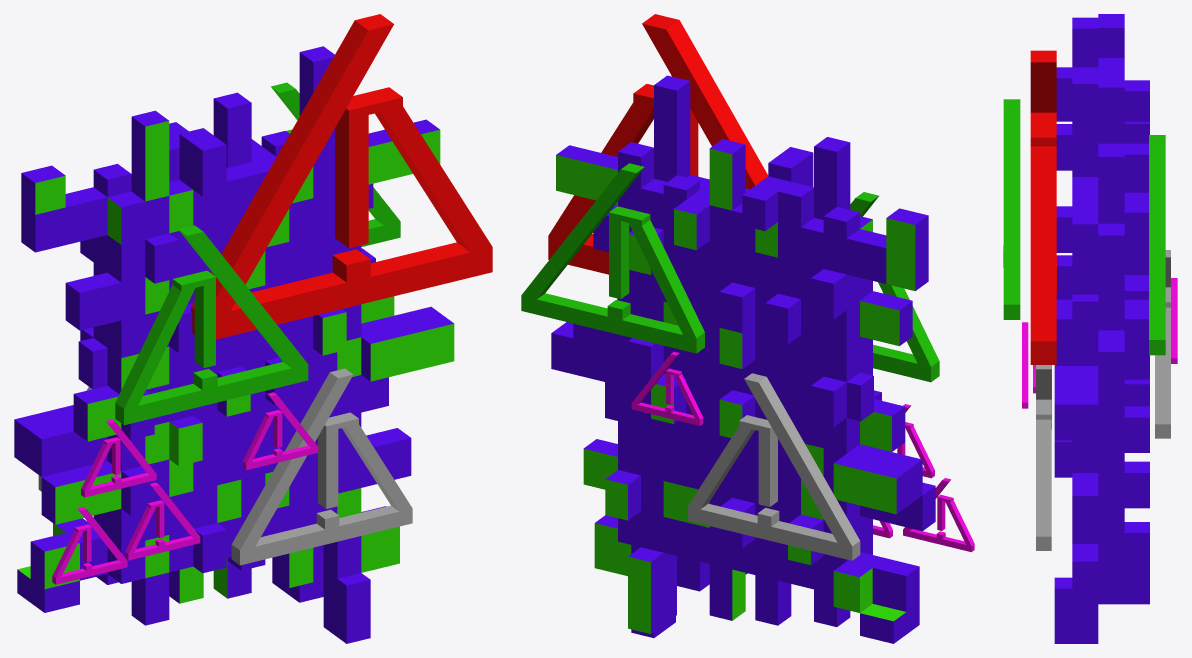
File: 浮き広告B.fbx
3 renders of one model, left to right at view 1: azimuth 30°, elevation 25°; view 2: azimuth 150°, elevation 25°; view 3: azimuth 270°, elevation 25°, orthographic. The views are drawn at different scales.
Parts seen in each view (by area): view 1: pCube1, pCube4, pasted__pCube4 (×3), pasted__pasted__pCube4 (×2), pasted__pasted__pasted__pCube4, pasted__pasted__pasted__pasted__pCube4; view 2: pCube1, pasted__pasted__pCube4 (×3), pCube4, pasted__pasted__pasted__pasted__pCube4 (×2), pasted__pCube4; view 3: pCube1, pCube4, pasted__pCube4 (×3), pasted__pasted__pCube4 (×2), pasted__pasted__pasted__pasted__pCube4.
Boxes of the visible parts, x1,y1,x2,y2 form: pCube1: (14, 46, 454, 643); pCube4: (191, 14, 492, 339); pasted__pCube4 (×3): (115, 225, 412, 565); pasted__pasted__pCube4 (×2): (81, 82, 400, 497); pasted__pasted__pasted__pCube4: (125, 482, 200, 560); pasted__pasted__pasted__pasted__pCube4: (52, 506, 127, 584); pCube1: (551, 75, 935, 643); pasted__pasted__pCube4 (×3): (521, 163, 934, 560); pCube4: (548, 14, 768, 274); pasted__pasted__pasted__pasted__pCube4 (×2): (631, 351, 974, 552); pasted__pCube4: (850, 192, 939, 382); pCube1: (1054, 14, 1149, 643); pCube4: (1030, 50, 1056, 364); pasted__pCube4 (×3): (1003, 99, 1051, 550); pasted__pasted__pCube4 (×2): (1149, 135, 1170, 438); pasted__pasted__pasted__pasted__pCube4: (1171, 278, 1177, 363).
Bounding box in the file's own units: 1.81 × 2.47 × 0.6648.
